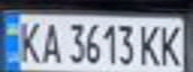1: (100, 20, 121, 65)
3: (115, 20, 139, 66), (63, 20, 84, 64)
6: (81, 20, 103, 65)
A: (36, 19, 63, 65)
K: (154, 21, 187, 68), (12, 18, 45, 64), (136, 21, 163, 68)
